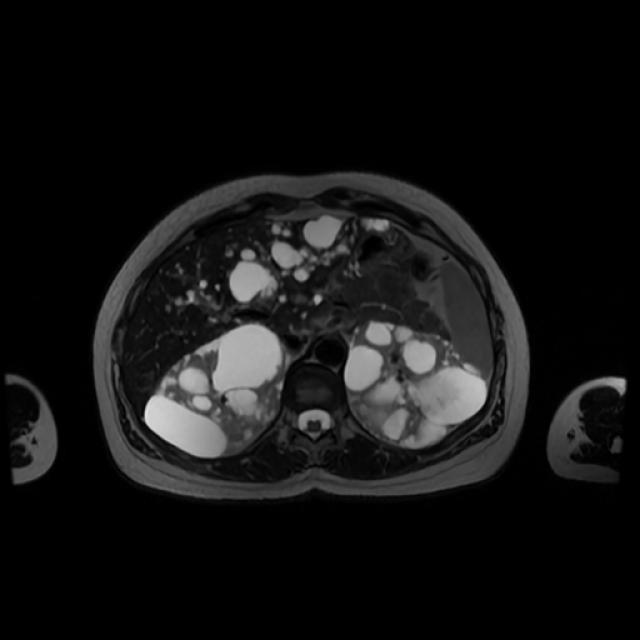sag: (148, 323, 287, 457)
sol: (345, 320, 489, 446)
